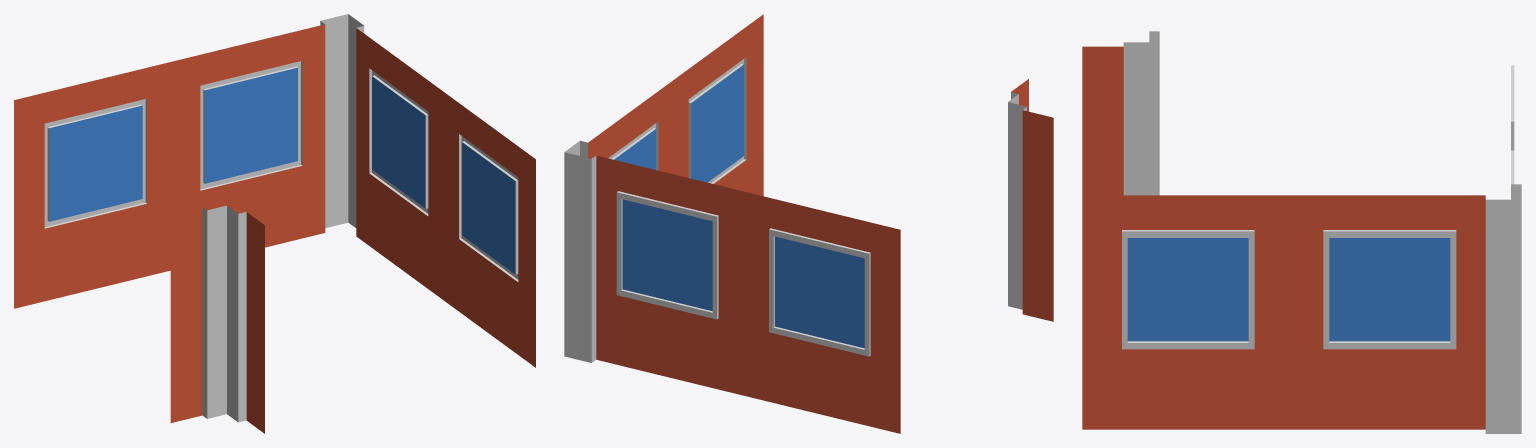
Rendered from 03b_mid.fbx.
3 views of the same model, side by side, from view 1: azimuth 30°, elevation 25°; view 2: azimuth 150°, elevation 25°; view 3: azimuth 270°, elevation 25° (orthographic). The views are drawn at different scales.
Visible parts, largest first — view 1: 03b_Mid; view 2: 03b_Mid; view 3: 03b_Mid.
Boxes of the visible parts, x1,y1,x2,y2 form: 03b_Mid: (14,14,535,433); 03b_Mid: (564,14,1053,433); 03b_Mid: (1082,31,1521,433).
Size of the model in its own units: 42.5 by 42.5 by 25.
